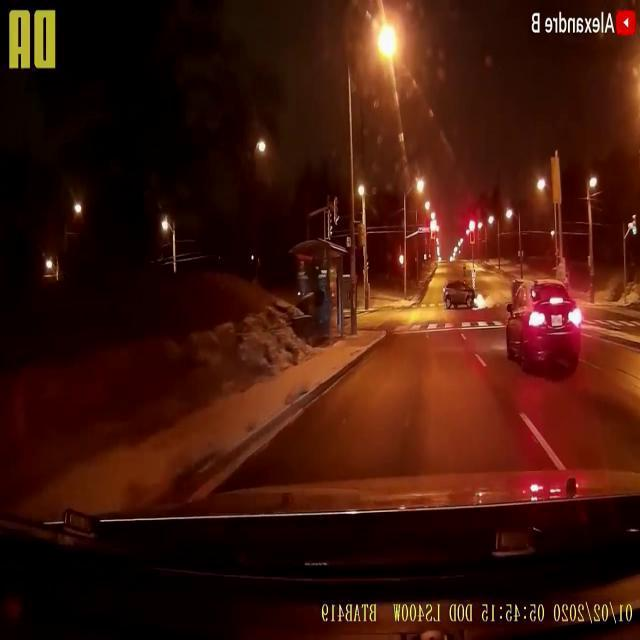accident: (444, 281, 486, 307)
